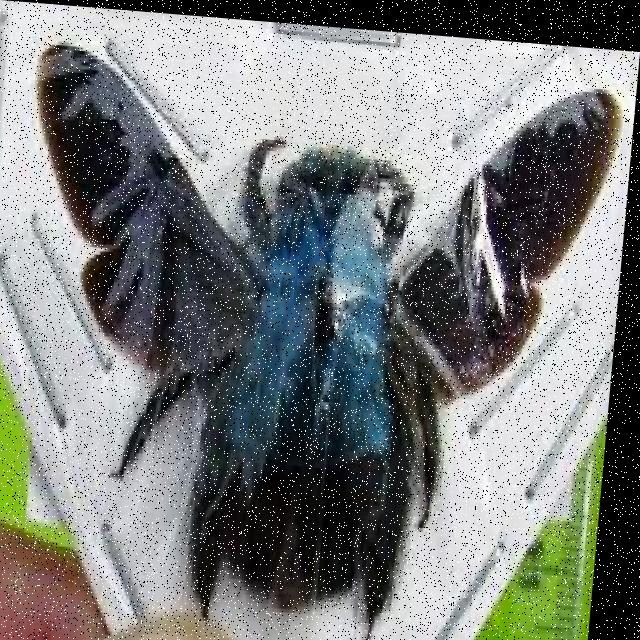Xylocopa: (0, 3, 605, 640)
